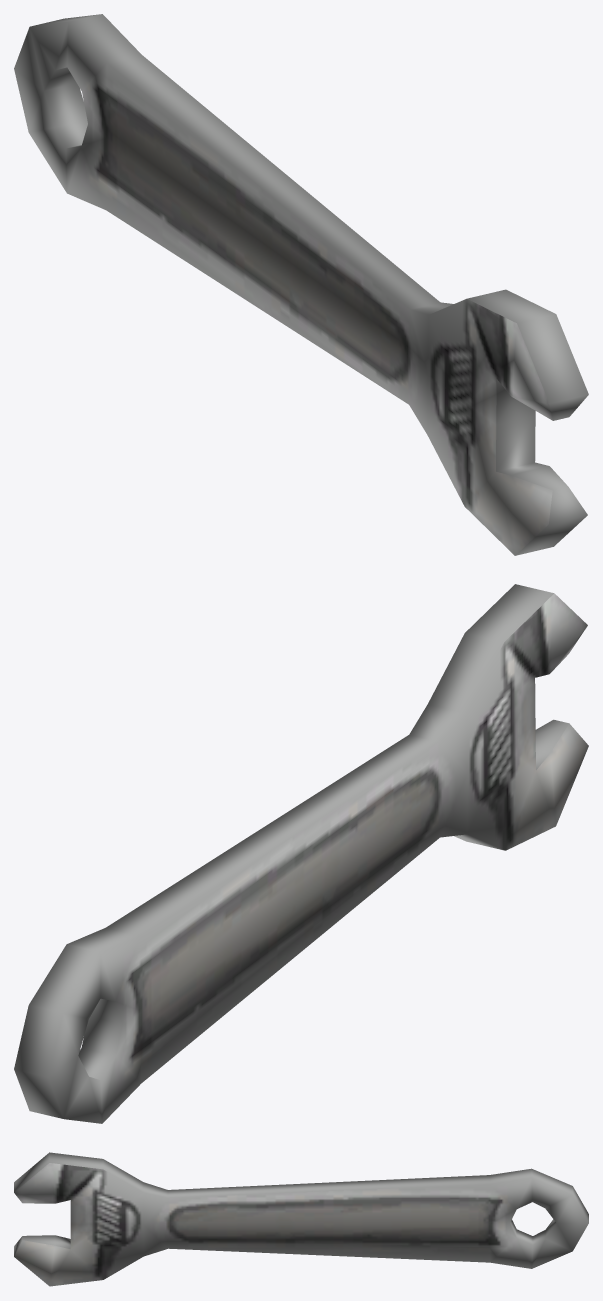
The model's file is repairkit.obj.
3 renders of one model, top to bottom at view 1: azimuth 30°, elevation 25°; view 2: azimuth 150°, elevation 25°; view 3: azimuth 270°, elevation 25°, orthographic. The views are drawn at different scales.
Visible parts, largest first — view 1: Handle1; view 2: Handle1; view 3: Handle1.
Part boxes in pixels (x1,y1,x2,y2): Handle1: (14, 14, 588, 555); Handle1: (14, 584, 588, 1123); Handle1: (14, 1152, 588, 1286).
Size of the model in its own units: 0.091 by 0.4922 by 2.06.
Materials: 1 (1 with a texture image).
